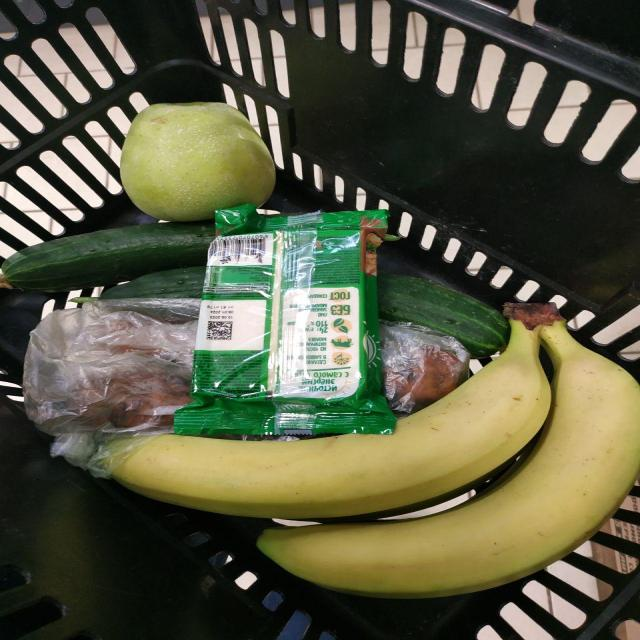Apple: (120, 102, 275, 221)
Banana: (258, 321, 638, 598), (112, 311, 552, 519)
Carrot: (383, 349, 468, 415), (110, 391, 185, 429)
Cheese: (175, 211, 395, 434)
Cucumber: (2, 222, 215, 291), (378, 272, 508, 358), (100, 266, 205, 299)
